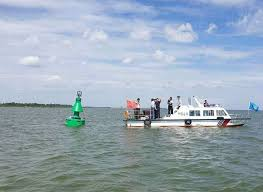tau_dansu: (129, 94, 243, 129)
